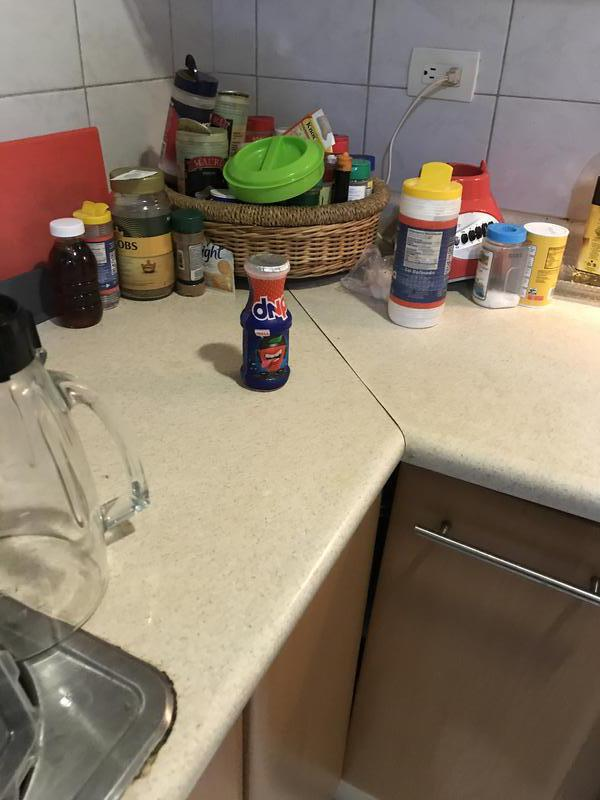danup: (236, 254, 295, 392)
